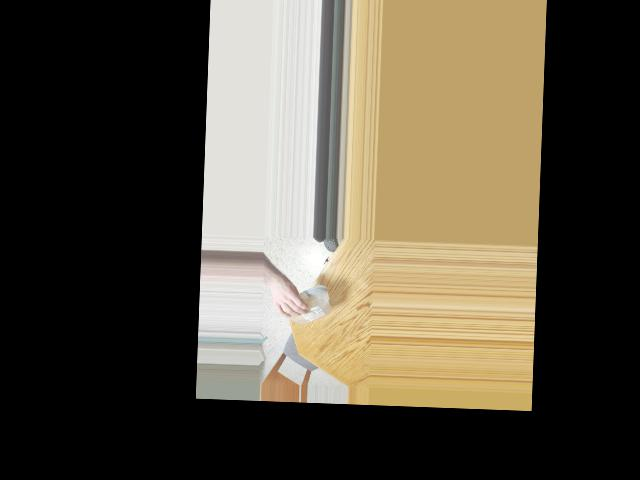cheese: (287, 288, 329, 319)
